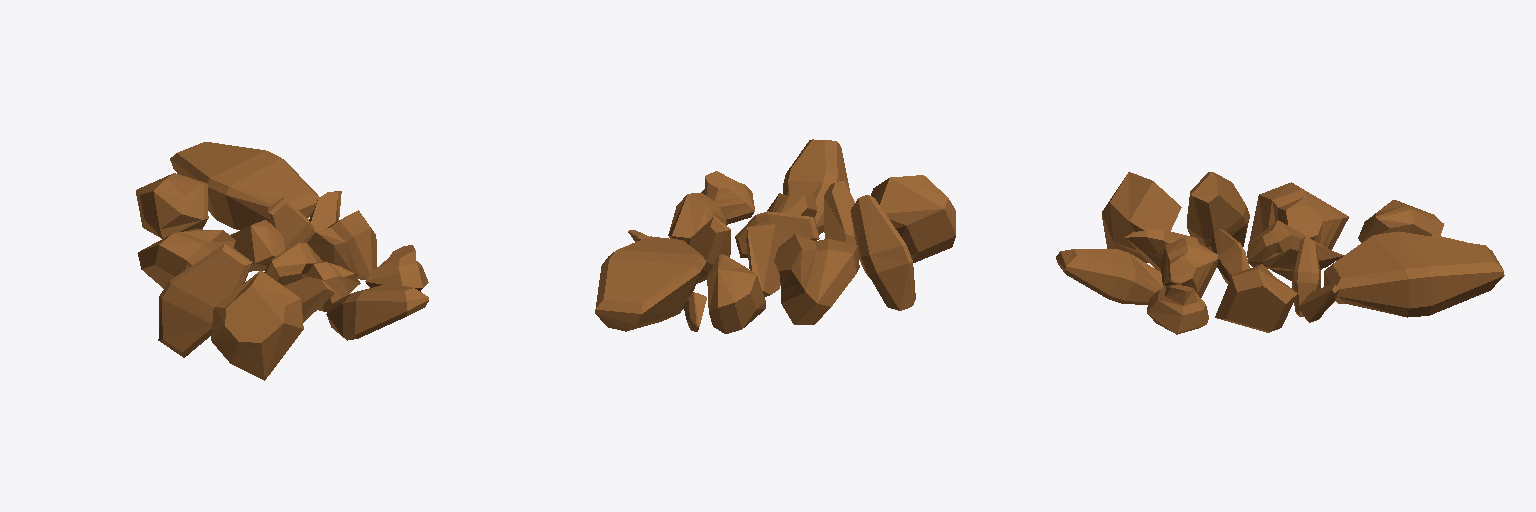
The model's file is rocks03.obj.
The picture shows the model from 3 angles: view 1: azimuth 30°, elevation 25°; view 2: azimuth 150°, elevation 25°; view 3: azimuth 270°, elevation 25°; orthographic projection.
Visible parts, largest first — view 1: Rocks03; view 2: Rocks03; view 3: Rocks03.
Boxes of the visible parts, box(x1,y1,x2,y2) form: Rocks03: box(136, 142, 428, 380); Rocks03: box(595, 139, 955, 333); Rocks03: box(1056, 172, 1504, 334).
Bounding box in the file's own units: 4.75 × 1.97 × 7.62.